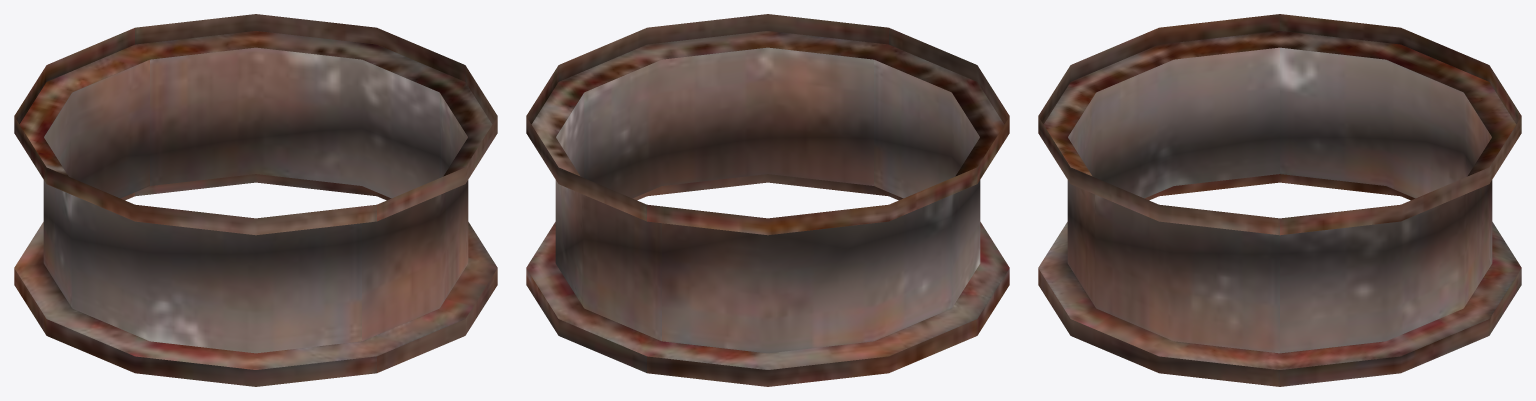
File: stylized_pipe_14.glb
3 renders of one model, left to right at view 1: azimuth 30°, elevation 25°; view 2: azimuth 150°, elevation 25°; view 3: azimuth 270°, elevation 25°, orthographic.
Visible parts, largest first — view 1: stylized_pipe_14; view 2: stylized_pipe_14; view 3: stylized_pipe_14.
Boxes of the visible parts, <box> form: stylized_pipe_14: <box>14,14,497,386</box>; stylized_pipe_14: <box>526,14,1009,386</box>; stylized_pipe_14: <box>1038,14,1521,386</box>.
Size of what is drawn, in the model's own units: 0.0832 by 0.032 by 0.0832.
Materials: 1 (1 with a texture image).
